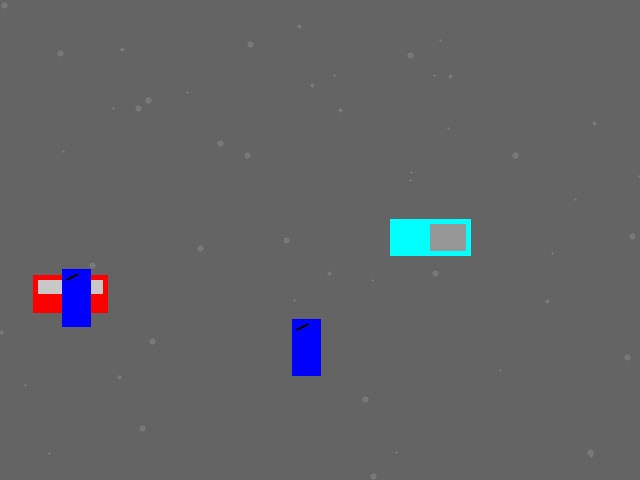car: (33, 275, 107, 312)
motorcycle: (62, 269, 90, 326), (292, 319, 320, 375)
truck: (390, 219, 470, 255)
